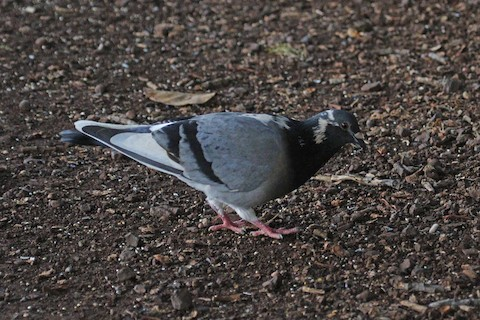pigeon: (57, 99, 367, 241)
